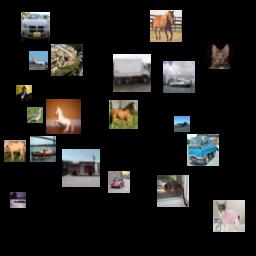airplane: (29, 51, 48, 70), (174, 116, 190, 132)
automobile: (21, 12, 50, 41), (108, 171, 130, 193)
bird: (16, 85, 32, 101), (27, 107, 43, 123)
cat: (157, 175, 189, 207), (207, 43, 233, 69)
dog: (213, 200, 245, 232)
frog: (51, 44, 83, 76)
ship: (163, 61, 195, 93), (30, 136, 56, 162), (10, 192, 26, 208)
truck: (113, 54, 151, 92), (62, 149, 100, 187), (187, 134, 219, 166)
